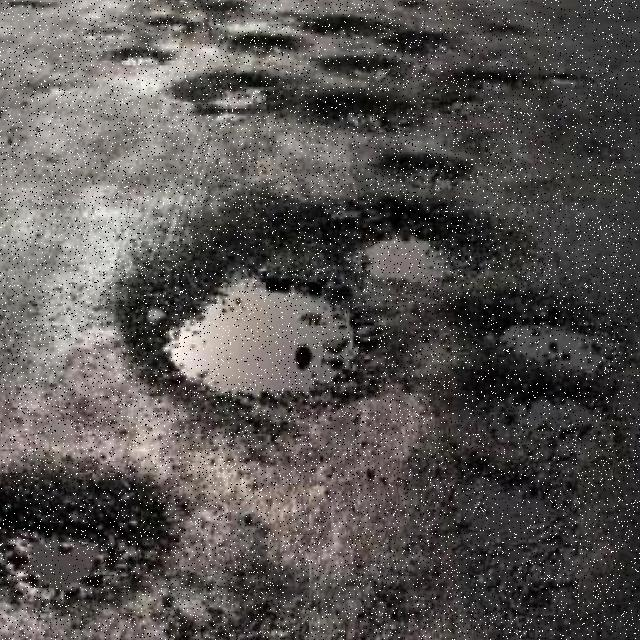pothole: (0, 460, 175, 603), (161, 278, 356, 399), (495, 313, 625, 389), (168, 71, 283, 122), (356, 238, 462, 286), (301, 96, 428, 134), (376, 154, 475, 196)
